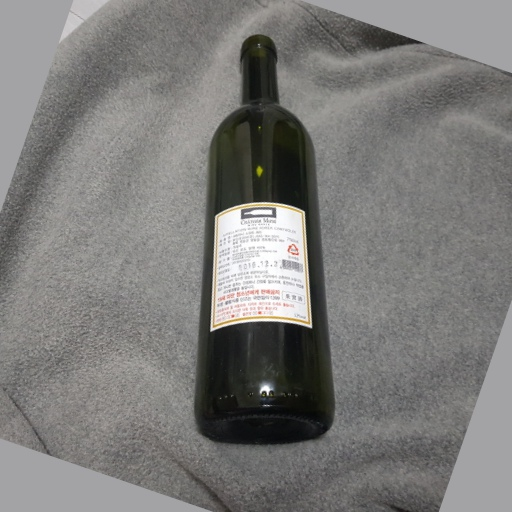Glass_2: (194, 34, 336, 446)
